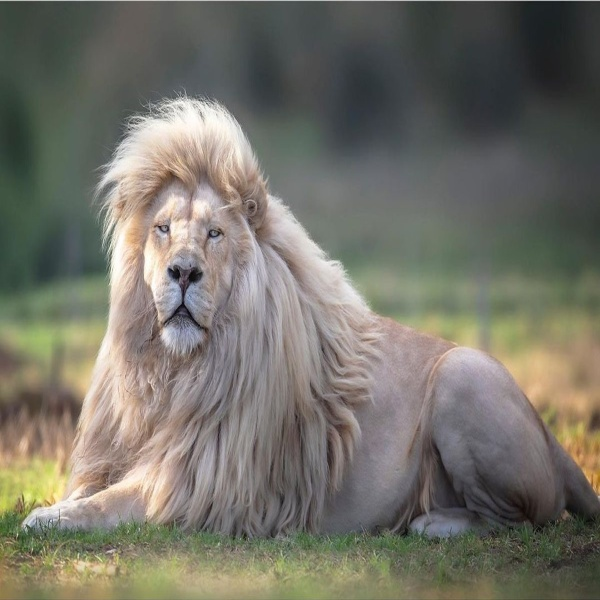Lion: (20, 92, 600, 545)
